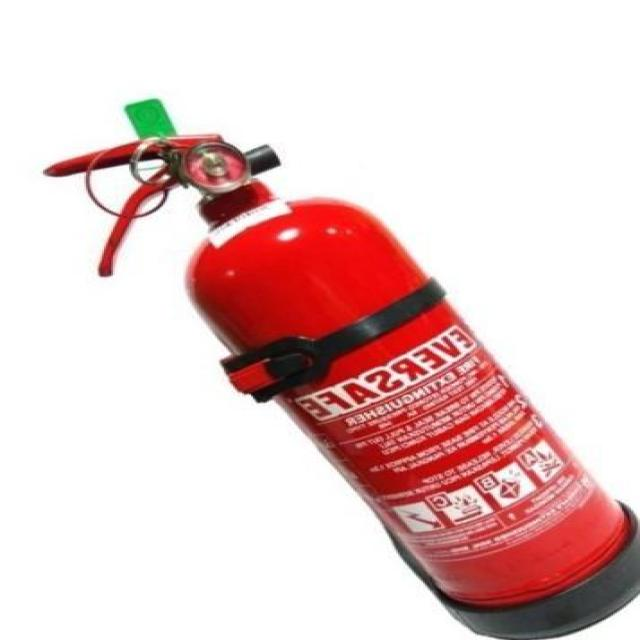fire_extinguisher: (34, 94, 638, 639)
